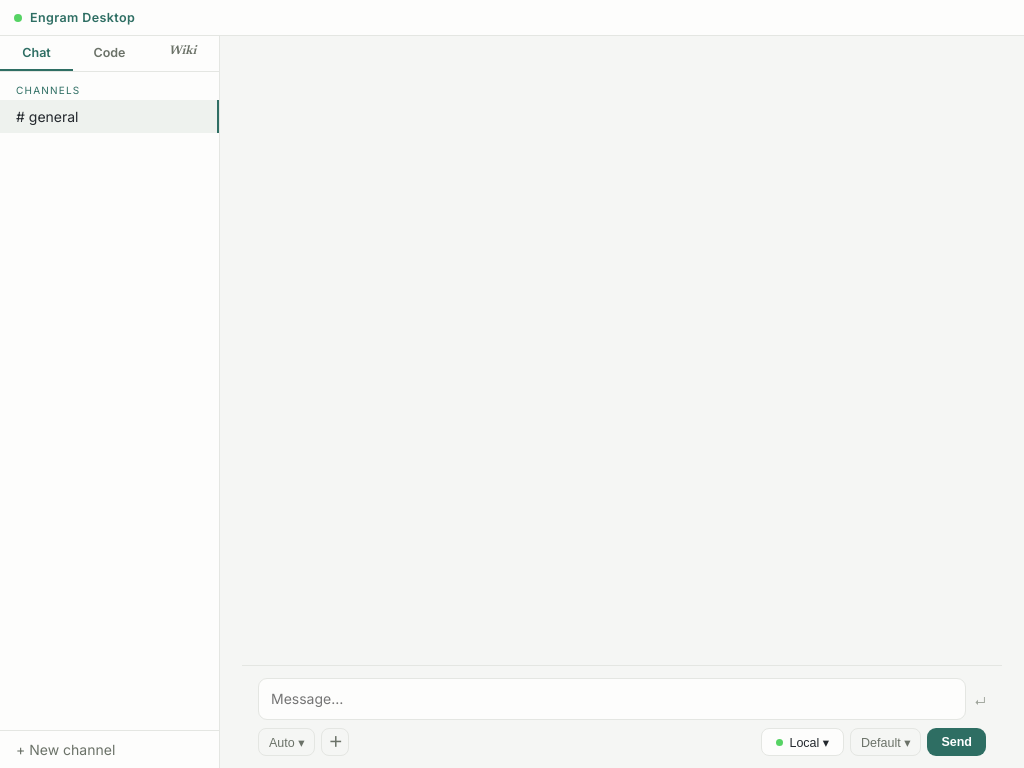
activity 프레임이 오면 인디케이터 라벨이 실시간으로 갱신된다
Expected: the text "# general" is shown, [16, 108, 78, 125]
Step 1. Type "검색해줘" into the text box with placeholder "Message…" → (612, 699), box [258, 678, 966, 720]
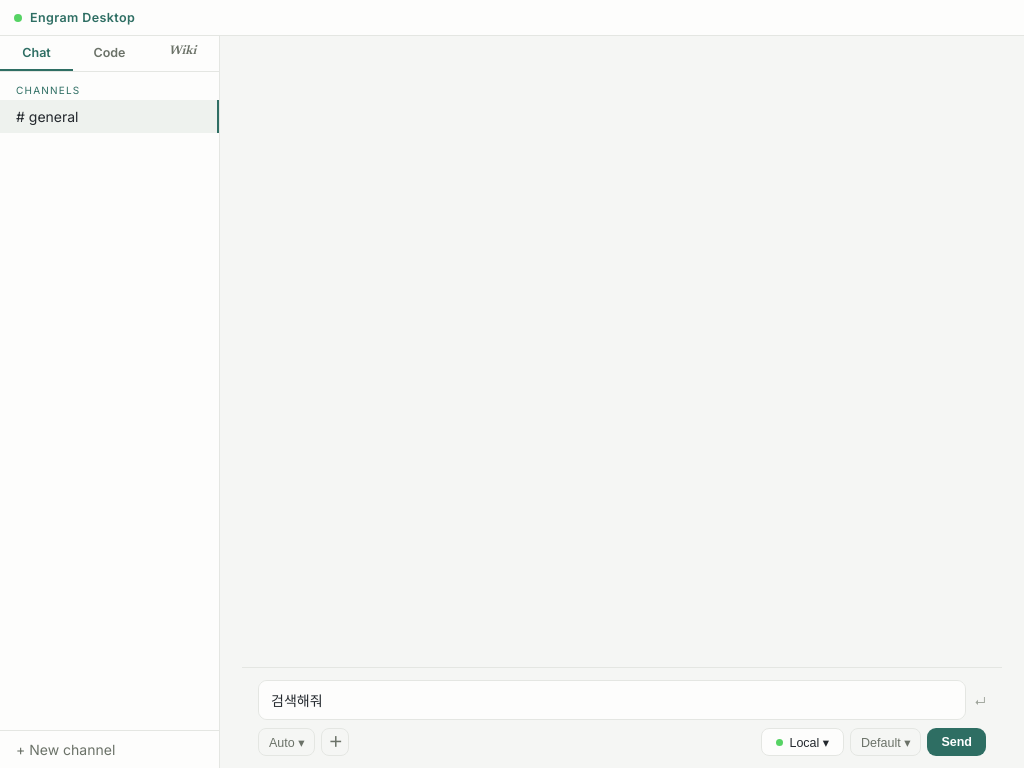
Step 2. Press Enter in the text box, box [258, 680, 966, 720]
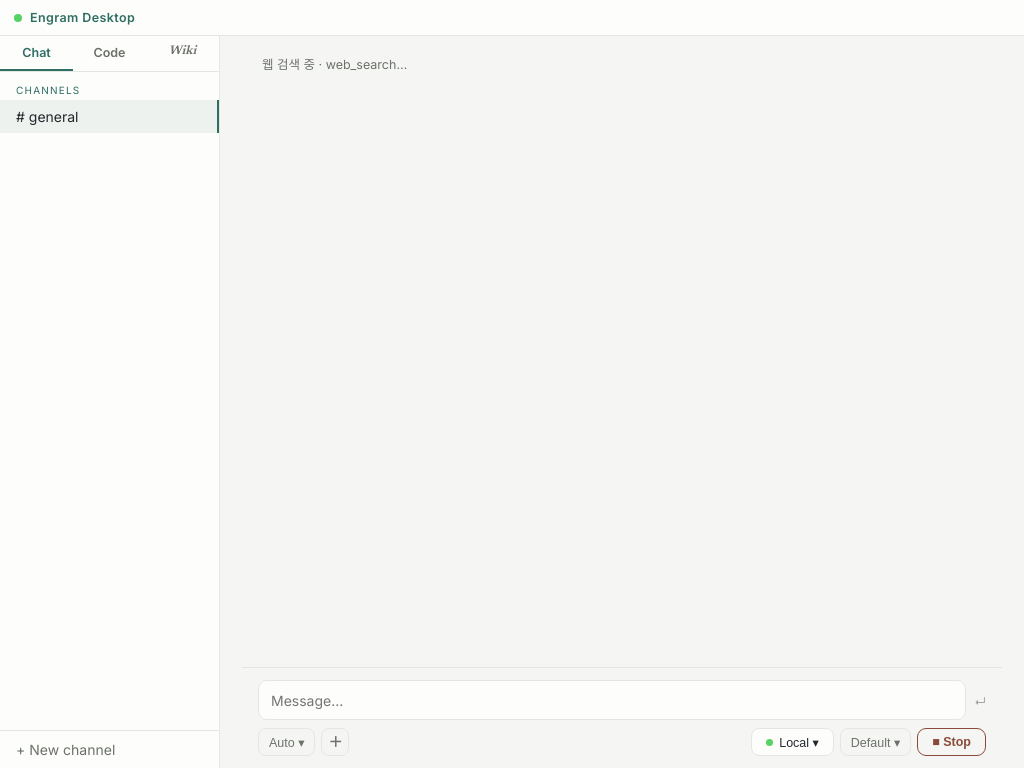
Expected: the text "웹 검색 중 · web_search" is shown, [262, 57, 396, 72]
